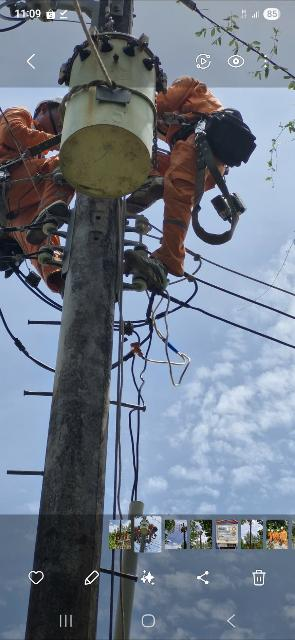harness: (160, 116, 231, 146)
helmet: (31, 90, 74, 124)
shoes: (116, 243, 179, 289), (22, 199, 75, 246), (125, 173, 171, 218)
